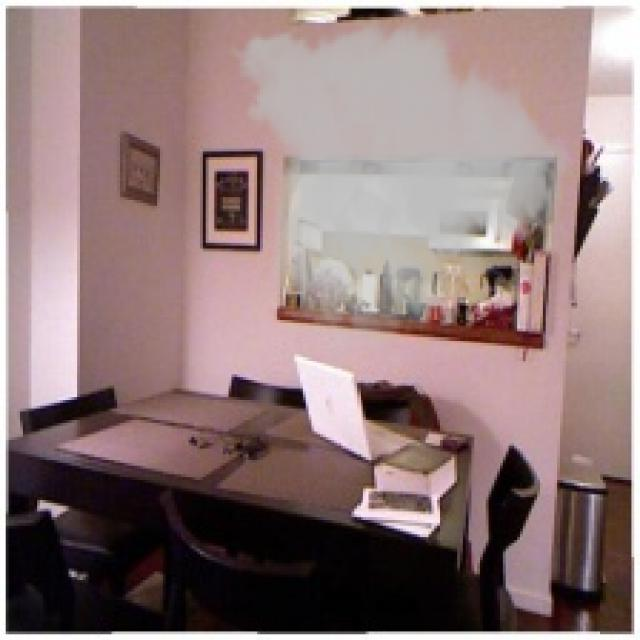smoke: (220, 9, 583, 354)
